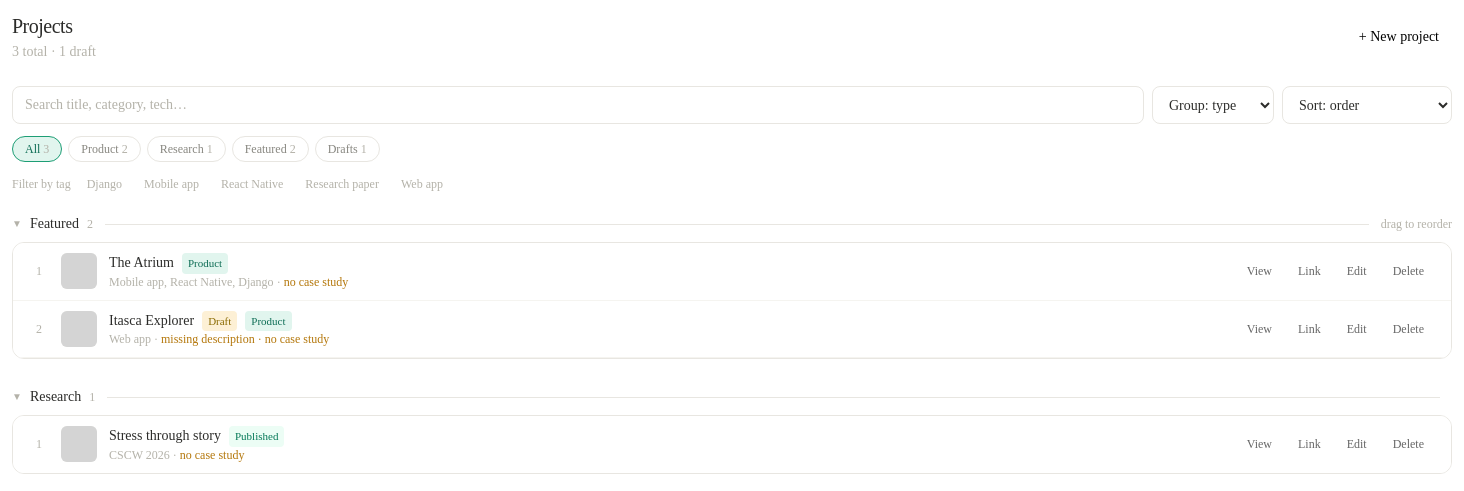
ProjectsTab › offers drag only on a complete group in manual order
This screenshot has width=1464, height=491.
expect the text "The Atrium" is shown: met, box [109,253,174,273]
expect the text "drag to reorder" is shown once: met, box [1381,216,1452,232]
Select "Sort: title" in the dropdown named "Sort projects by". click: (1367, 105)
box: [1282,86,1452,124]
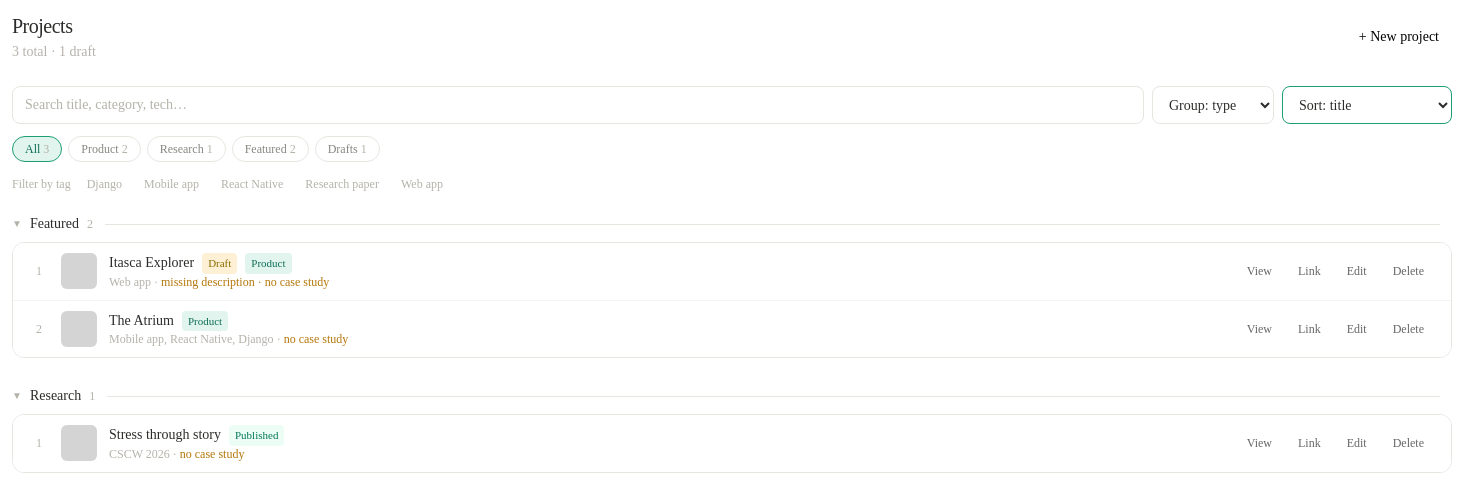
expect the text "drag to reorder" is gone: met
